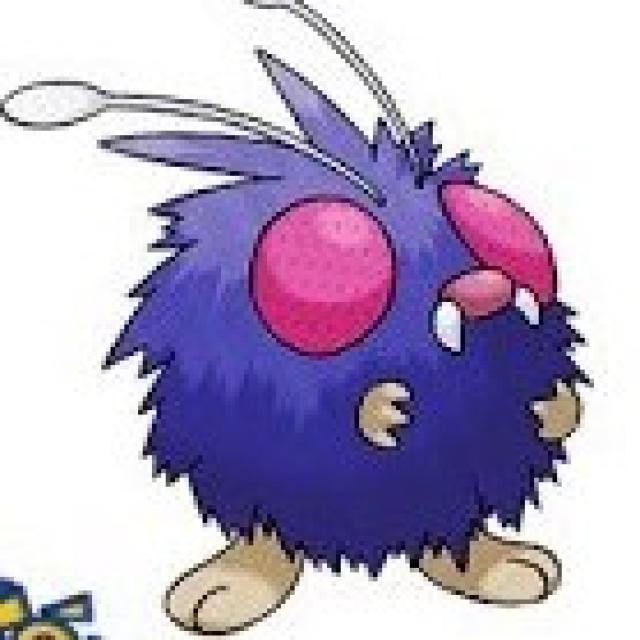Venonat: (128, 51, 583, 604)
